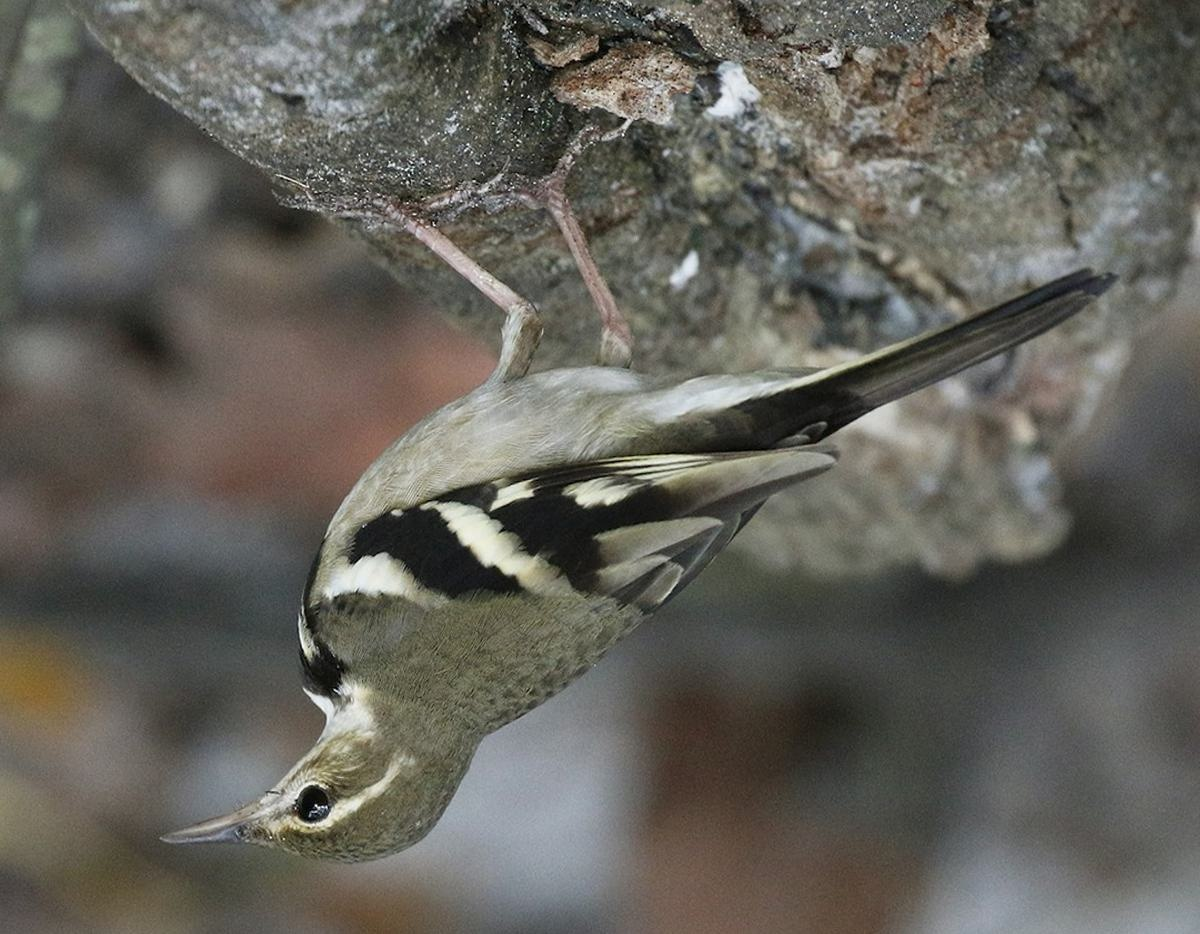wagtail: (166, 213, 1099, 858)
